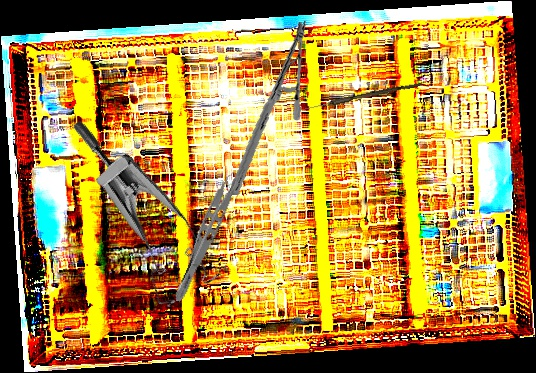Needle Holder: (208, 21, 328, 196)
Speculum: (17, 117, 246, 323)
Surgical Spoon: (297, 80, 422, 114)
Tissue Forceps: (170, 164, 248, 308)
